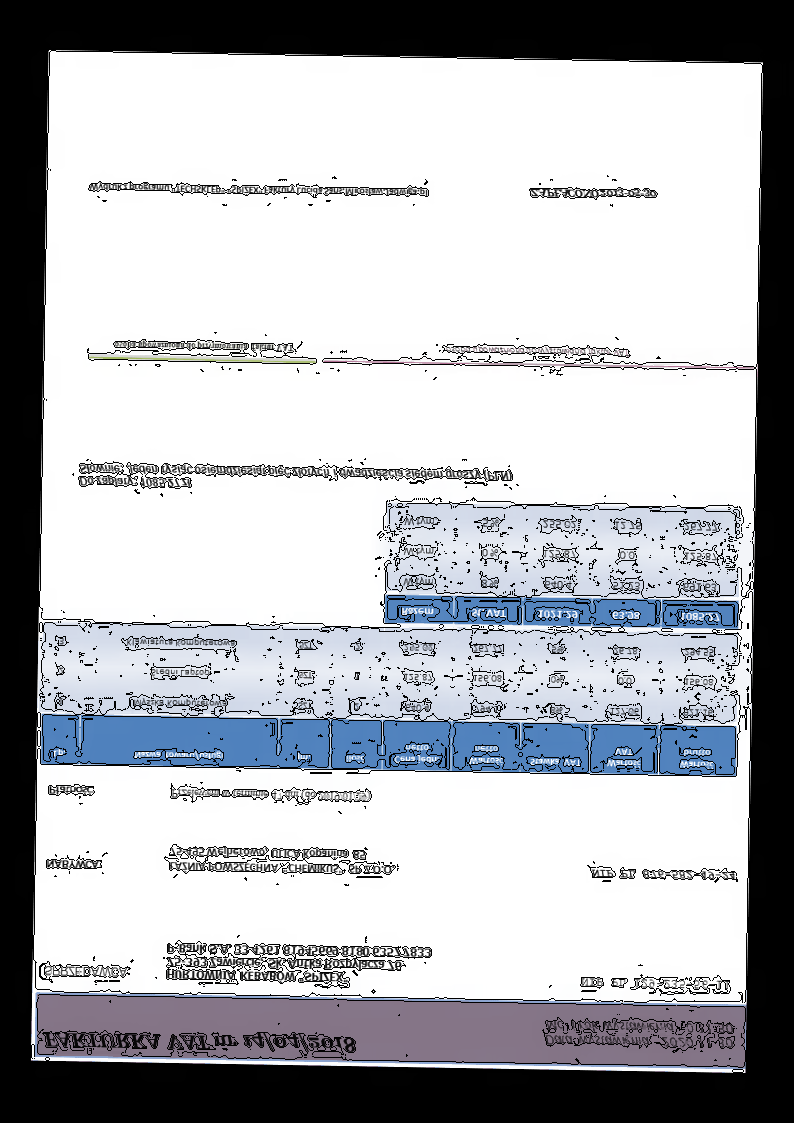Table: (38, 622, 740, 778), (382, 501, 741, 630)
TextBox: (76, 458, 515, 496), (165, 939, 433, 986), (40, 1025, 360, 1057), (166, 844, 397, 877), (86, 179, 431, 201), (542, 1017, 738, 1051), (169, 786, 373, 805), (109, 337, 296, 355), (443, 344, 630, 360), (589, 865, 736, 884), (578, 974, 732, 992), (527, 183, 659, 202), (41, 964, 132, 981), (42, 857, 103, 872), (45, 783, 97, 798)
